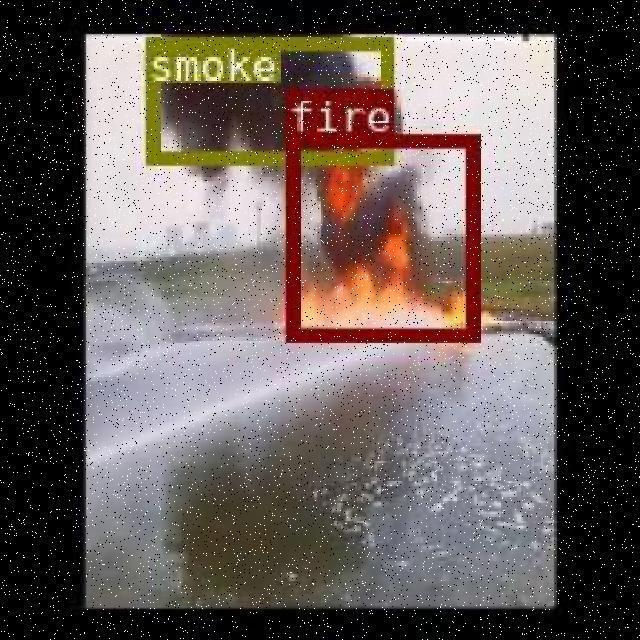Smoke: (143, 66, 391, 130)
